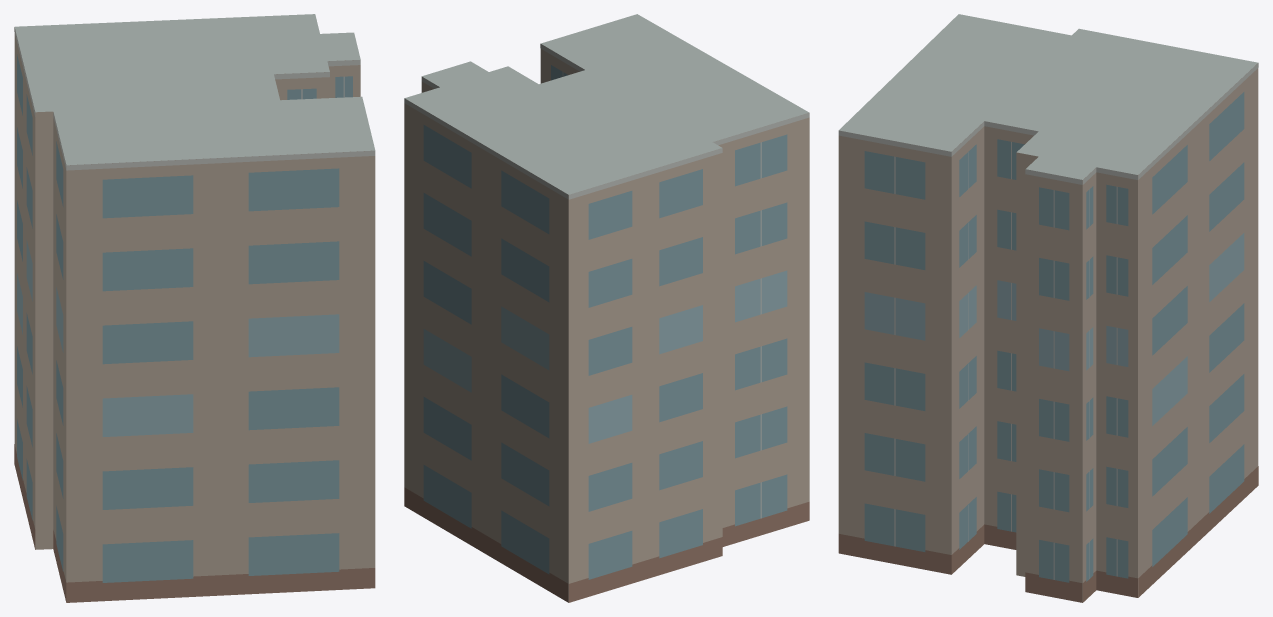
The model's file is survey-upis-32975047.glb.
3 renders of one model, left to right at view 1: azimuth 30°, elevation 25°; view 2: azimuth 150°, elevation 25°; view 3: azimuth 270°, elevation 25°, orthographic. The views are drawn at different scales.
Parts seen in each view (by area): view 1: survey-upis-32975047.tmp; view 2: survey-upis-32975047.tmp; view 3: survey-upis-32975047.tmp.
Boxes of the visible parts, <box> form: survey-upis-32975047.tmp: <box>14,14,375,602</box>; survey-upis-32975047.tmp: <box>404,14,809,602</box>; survey-upis-32975047.tmp: <box>838,14,1258,602</box>.
Size of the model in its own units: 17.09 by 20.3 by 18.27.
